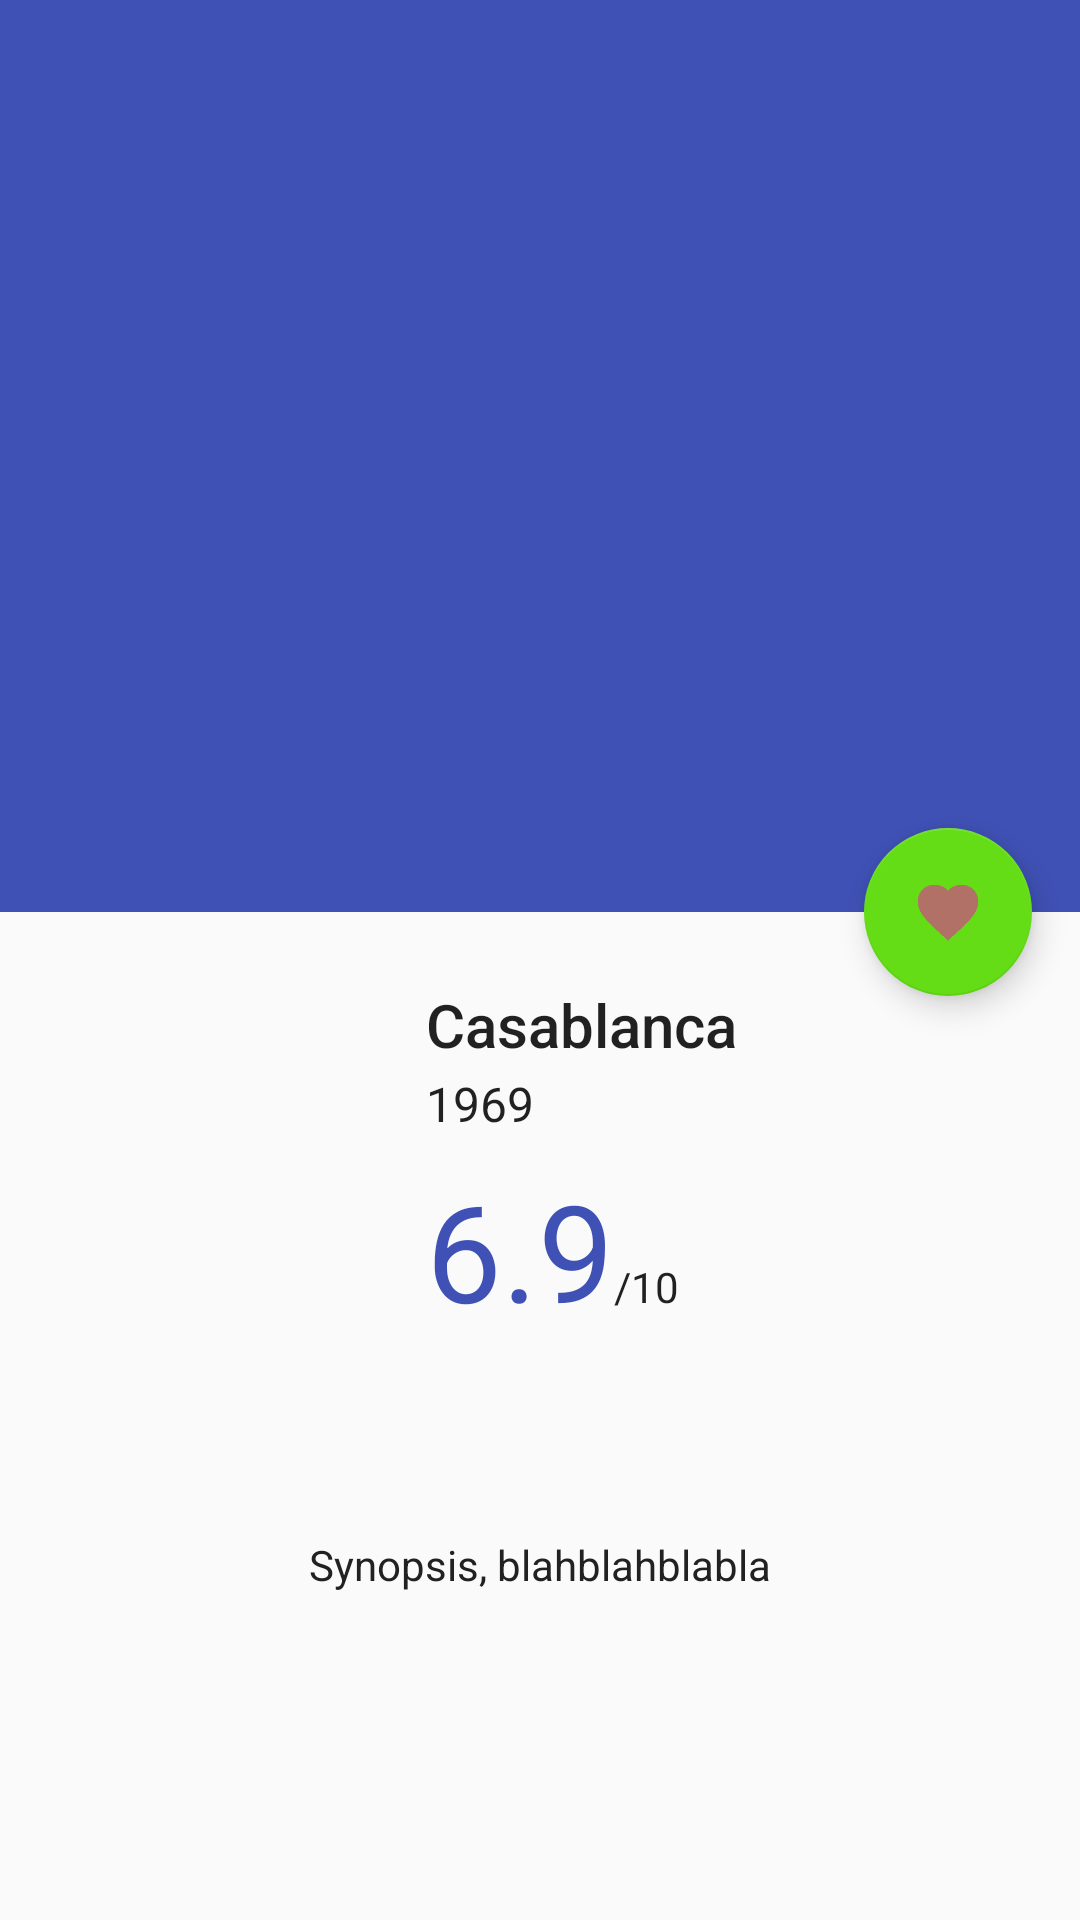

Where to tap for icons on this 1080x1920 app screen, as [x,y]:
nofavorite heart: [948,912]
